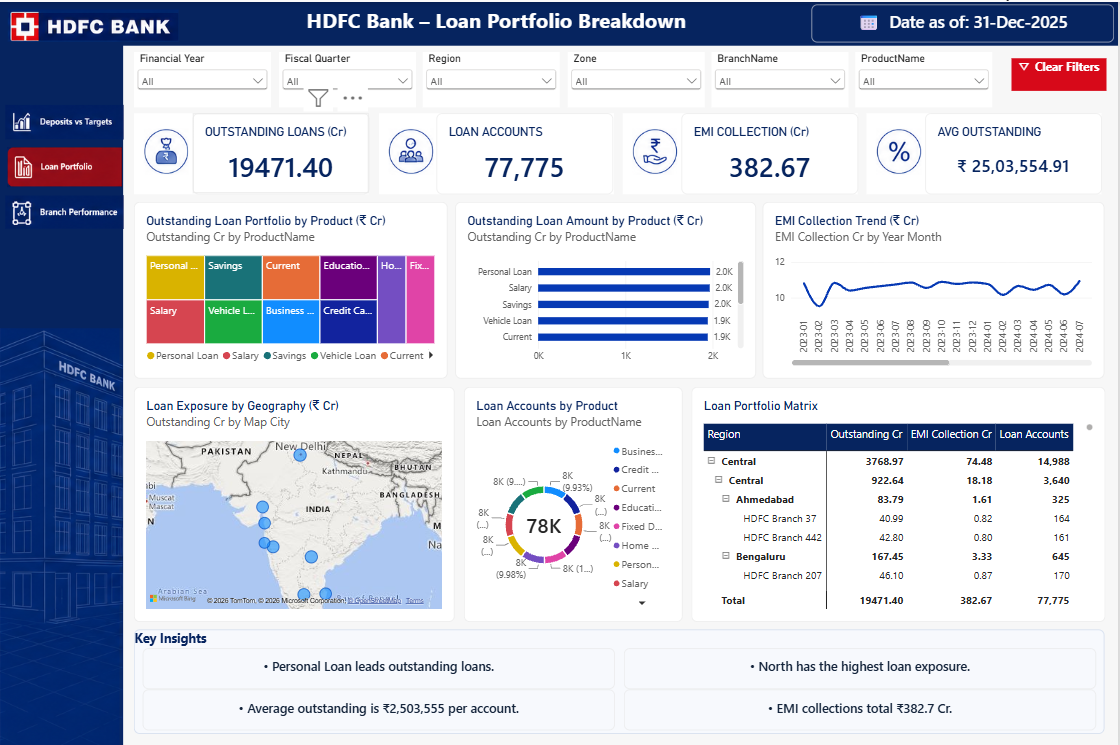

The page's visual inventory and layout, read from the dashboard file:
{"tool":"powerbi","page":{"name":"Loan Portfolio","canvas":[1536,1024],"ordinal":1},"visuals":[{"type":"textbox","box":[0,0,170,1024],"z":1},{"type":"textbox","box":[170,0,1366,60],"z":2},{"type":"image","box":[12,10,234,44],"z":3},{"type":"image","box":[0,448,170,576],"z":4},{"type":"textbox","box":[255,5,854,50],"z":5},{"type":"card","fields":{"Values":["FactTransactions.Reporting Date"]},"box":[1115,4,415,52],"z":6},{"type":"image","box":[8,138,162,55],"z":7},{"type":"image","box":[8,199,162,55],"z":9},{"type":"image","box":[8,260,162,55],"z":11},{"type":"slicer","title":"Financial Year","fields":{"Values":["DimDate.Financial Year"]},"box":[186,68,188,76],"z":13},{"type":"slicer","title":"Fiscal Quarter","fields":{"Values":["DimDate.Fiscal Quarter"]},"box":[384,68,188,76],"z":14},{"type":"slicer","title":"Region","fields":{"Values":["DimBranch.Region"]},"box":[582,68,188,76],"z":15},{"type":"slicer","title":"Zone","fields":{"Values":["DimBranch.Zone"]},"box":[780,68,188,76],"z":16},{"type":"slicer","title":"BranchName","fields":{"Values":["DimBranch.BranchName"]},"box":[978,68,188,76],"z":17},{"type":"slicer","title":"ProductName","fields":{"Values":["DimProduct.ProductName"]},"box":[1176,68,188,76],"z":18},{"type":"textbox","box":[1390,78,130,45],"z":19},{"type":"textbox","box":[186,152,322,111],"z":20},{"type":"card","title":"OUTSTANDING LOANS (Cr)","fields":{"Values":["FactLoanRepayments.Outstanding Cr"]},"box":[266,152,242,111],"z":21},{"type":"textbox","box":[521,152,322,111],"z":21},{"type":"card","title":"LOAN ACCOUNTS","fields":{"Values":["FactLoanRepayments.Loan Accounts"]},"box":[601,152,242,111],"z":22},{"type":"textbox","box":[856,152,322,111],"z":22},{"type":"card","title":"EMI COLLECTION (Cr)","fields":{"Values":["FactLoanRepayments.EMI Collection Cr"]},"box":[936,152,242,111],"z":23},{"type":"textbox","box":[1191,152,322,111],"z":23},{"type":"card","title":"AVG OUTSTANDING","fields":{"Values":["FactLoanRepayments.Average Outstanding"]},"box":[1271,152,242,111],"z":24},{"type":"treemap","title":"Outstanding Loan Portfolio by Product (₹ Cr)","fields":{"Group":["DimProduct.ProductName"],"Values":["FactLoanRepayments.Outstanding Cr"]},"box":[186,274,430,242],"z":25},{"type":"clusteredBarChart","title":"Outstanding Loan Amount by Product (₹ Cr)","fields":{"Category":["DimProduct.ProductName"],"Y":["FactLoanRepayments.Outstanding Cr"]},"box":[626,274,413,242],"z":26},{"type":"lineChart","title":"EMI Collection Trend (₹ Cr)","fields":{"Category":["DimDate.Year Month"],"Y":["FactLoanRepayments.EMI Collection Cr"]},"box":[1049,274,469,242],"z":27},{"type":"map","title":"Loan Exposure by Geography (₹ Cr)","fields":{"Category":["DimBranch.Map City"],"Size":["FactLoanRepayments.Outstanding Cr"]},"box":[186,528,440,322],"z":28},{"type":"donutChart","title":"Loan Accounts by Product","fields":{"Category":["DimProduct.ProductName"],"Y":["FactLoanRepayments.Loan Accounts"]},"box":[638,528,300,322],"z":29},{"type":"pivotTable","title":"Loan Portfolio Matrix","fields":{"Rows":["DimBranch.Region","DimBranch.Zone","DimBranch.City","DimBranch.BranchName"],"Values":["FactLoanRepayments.Outstanding Cr","FactLoanRepayments.EMI Collection Cr","FactLoanRepayments.Loan Accounts"]},"box":[950,528,568,322],"z":30},{"type":"image","box":[198,174,64,64],"z":121},{"type":"image","box":[533,174,64,64],"z":122},{"type":"image","box":[868,174,64,64],"z":123},{"type":"image","box":[1203,174,64,64],"z":124},{"type":"textbox","box":[186,861,1332,143],"z":130},{"type":"card","fields":{"Values":["FactLoanRepayments.Loan Insights 1"]},"box":[198,887,648,56],"z":132},{"type":"card","fields":{"Values":["FactLoanRepayments.Loan Insights 2"]},"box":[858,887,648,56],"z":133},{"type":"card","fields":{"Values":["FactLoanRepayments.Loan Insights 3"]},"box":[198,943,648,56],"z":134},{"type":"card","fields":{"Values":["FactLoanRepayments.Loan Insights 4"]},"box":[858,943,648,56],"z":135},{"type":"actionButton","box":[8,138,162,55],"z":507},{"type":"actionButton","box":[8,199,162,55],"z":509},{"type":"actionButton","box":[8,260,162,55],"z":511},{"type":"actionButton","box":[1390,78,130,45],"z":519}]}

Visuals, with their boxes on the page's 1536x1024 design canvas (x1, y1, x2, y2). These are canvas units, not pixel positions in the 1120x745 screenshot, which may show the page scaled, cropped or inside an application window:
textbox: 0 0 170 1024
textbox: 170 0 1536 60
image: 12 10 246 54
image: 0 448 170 1024
textbox: 255 5 1109 55
card - FactTransactions.Reporting Date: 1115 4 1530 56
image: 8 138 170 193
image: 8 199 170 254
image: 8 260 170 315
"Financial Year" slicer: 186 68 374 144
"Fiscal Quarter" slicer: 384 68 572 144
"Region" slicer: 582 68 770 144
"Zone" slicer: 780 68 968 144
"BranchName" slicer: 978 68 1166 144
"ProductName" slicer: 1176 68 1364 144
textbox: 1390 78 1520 123
textbox: 186 152 508 263
"OUTSTANDING LOANS (Cr)" card: 266 152 508 263
textbox: 521 152 843 263
"LOAN ACCOUNTS" card: 601 152 843 263
textbox: 856 152 1178 263
"EMI COLLECTION (Cr)" card: 936 152 1178 263
textbox: 1191 152 1513 263
"AVG OUTSTANDING" card: 1271 152 1513 263
"Outstanding Loan Portfolio by Product (₹ Cr)" treemap: 186 274 616 516
"Outstanding Loan Amount by Product (₹ Cr)" clusteredBarChart: 626 274 1039 516
"EMI Collection Trend (₹ Cr)" lineChart: 1049 274 1518 516
"Loan Exposure by Geography (₹ Cr)" map: 186 528 626 850
"Loan Accounts by Product" donutChart: 638 528 938 850
"Loan Portfolio Matrix" pivotTable: 950 528 1518 850
image: 198 174 262 238
image: 533 174 597 238
image: 868 174 932 238
image: 1203 174 1267 238
textbox: 186 861 1518 1004
card - FactLoanRepayments.Loan Insights 1: 198 887 846 943
card - FactLoanRepayments.Loan Insights 2: 858 887 1506 943
card - FactLoanRepayments.Loan Insights 3: 198 943 846 999
card - FactLoanRepayments.Loan Insights 4: 858 943 1506 999
actionButton: 8 138 170 193
actionButton: 8 199 170 254
actionButton: 8 260 170 315
actionButton: 1390 78 1520 123
